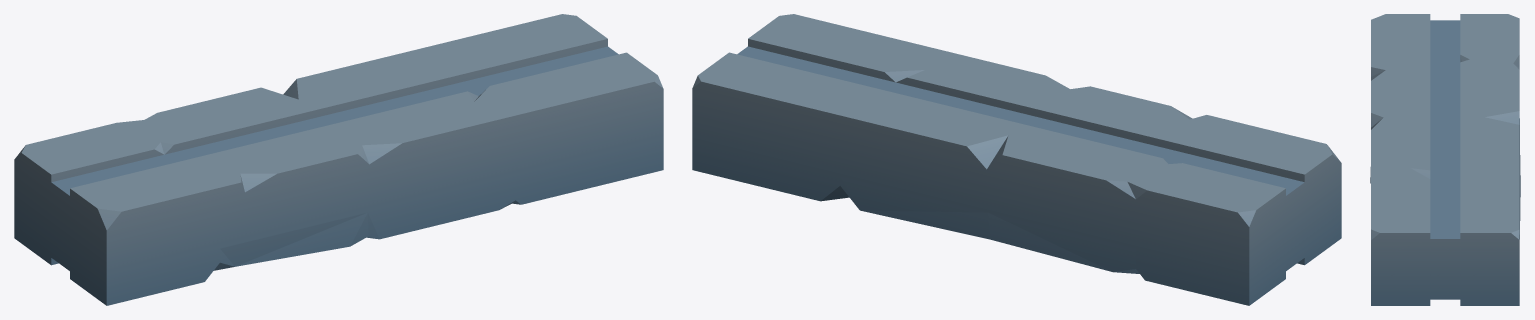
File: Wall_Cornice_01.glb
The picture shows the model from 3 angles, left to right: view 1: azimuth 30°, elevation 25°; view 2: azimuth 150°, elevation 25°; view 3: azimuth 270°, elevation 25°; orthographic projection. The views are drawn at different scales.
Parts seen in each view (by area): view 1: Wall_Cornice_01; view 2: Wall_Cornice_01; view 3: Wall_Cornice_01.
Boxes of the visible parts, <box> form: Wall_Cornice_01: <box>14,14,663,305</box>; Wall_Cornice_01: <box>692,14,1341,305</box>; Wall_Cornice_01: <box>1370,14,1520,305</box>.
Size of the model in its own units: 4 by 0.6224 by 1.16.
1 material, 1 textured.
